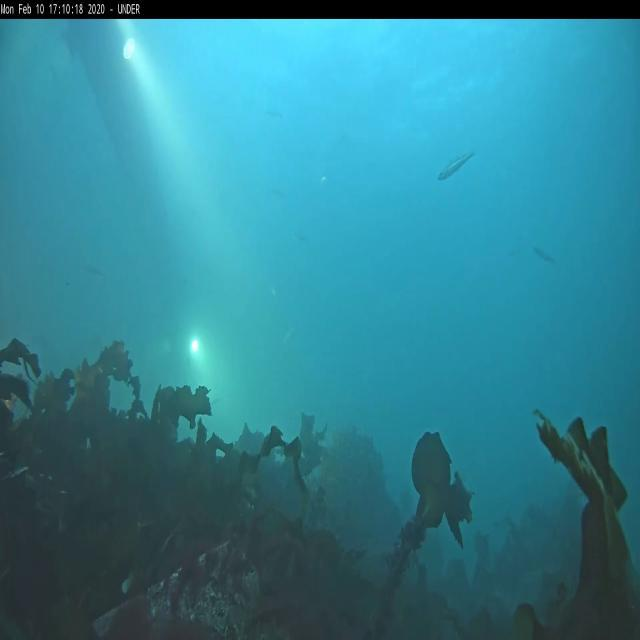fish: (439, 149, 477, 182)
